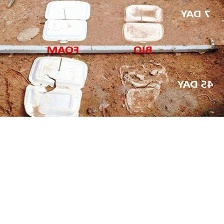foam_box: (21, 55, 89, 117), (116, 58, 172, 114), (39, 0, 92, 45), (121, 2, 166, 45)
